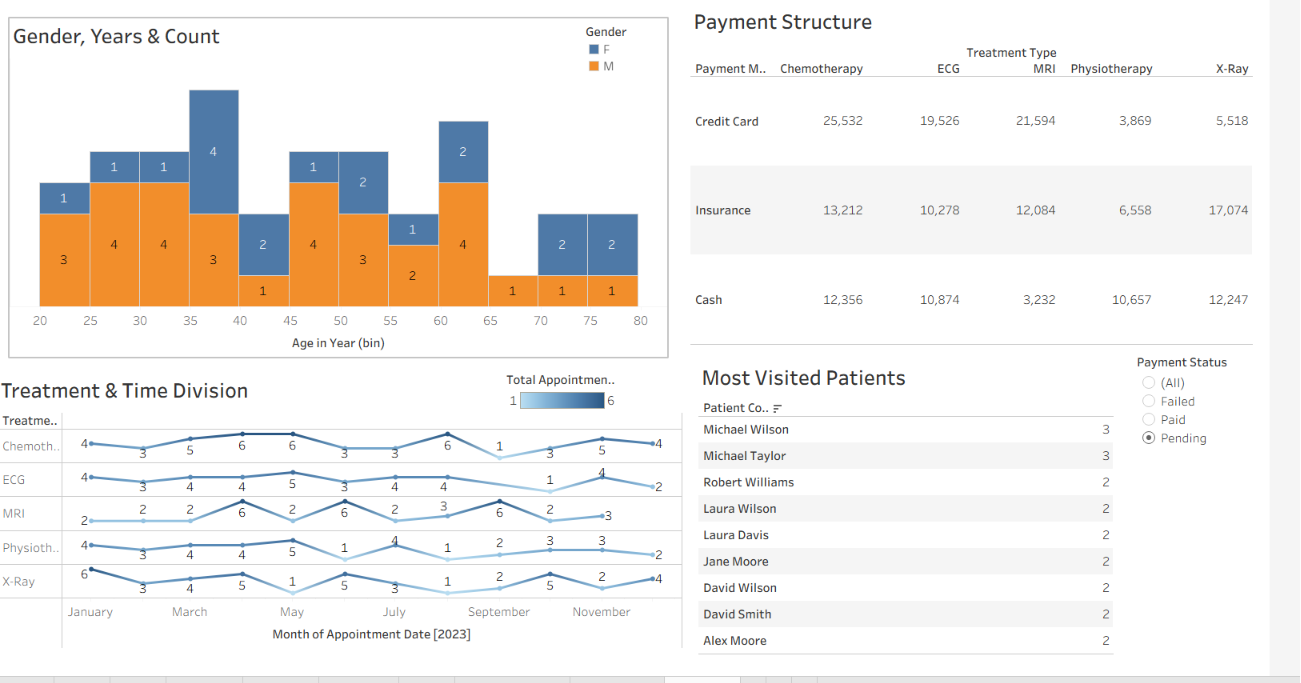

Layout of this report page (visuals, bound fields, positions):
{"tool":"tableau","page":{"name":"Canvas 2","canvas":[1600,900],"ordinal":1},"visuals":[{"type":"worksheet","title":"Visual 10 ,11 & 12","mark":"Automatic","rows":["payment_method"],"cols":["treatment_type"],"box":[876,12,703,426]},{"type":"worksheet","title":"Visual 7 & 8","mark":"Automatic","rows":["Calculation_0128161231298565"],"cols":["Age in Year (bin)"],"box":[25,30,822,423]},{"type":"legend","title":"Visual 7 & 8","param":"[federated.0fts59o049uzn210oxu810q9rnoc].[none:gender:nk]","box":[745,36,140,64]},{"type":"filter","title":"Visual 10 ,11 & 12","param":"[federated.0fts59o049uzn210oxu810q9rnoc].[none:payment_status:nk]","box":[1434,449,162,120]},{"type":"worksheet","title":"Visual 9","mark":"Automatic","rows":["Calculation_0128161232703494"],"box":[886,457,519,368]},{"type":"legend","title":"Visual 13 & 14","param":"[federated.0fts59o049uzn210oxu810q9rnoc].[usr:Calculation_0128161214521346:qk]","box":[646,471,140,88]},{"type":"worksheet","title":"Visual 13 & 14","mark":"Automatic","rows":["treatment_type","appointment_id"],"cols":["appointment_date"],"box":[10,473,856,345]}]}

Visuals, with their boxes on the page's 1600x900 design canvas (x1, y1, x2, y2). These are canvas units, not pixel positions in the 1301x683 screenshot, which may show the page scaled, cropped or inside an application window:
"Visual 10 ,11 & 12" worksheet: 876,12,1579,438
"Visual 7 & 8" worksheet: 25,30,847,453
"Visual 7 & 8" legend: 745,36,885,100
"Visual 10 ,11 & 12" filter: 1434,449,1596,569
"Visual 9" worksheet: 886,457,1405,825
"Visual 13 & 14" legend: 646,471,786,559
"Visual 13 & 14" worksheet: 10,473,866,818
